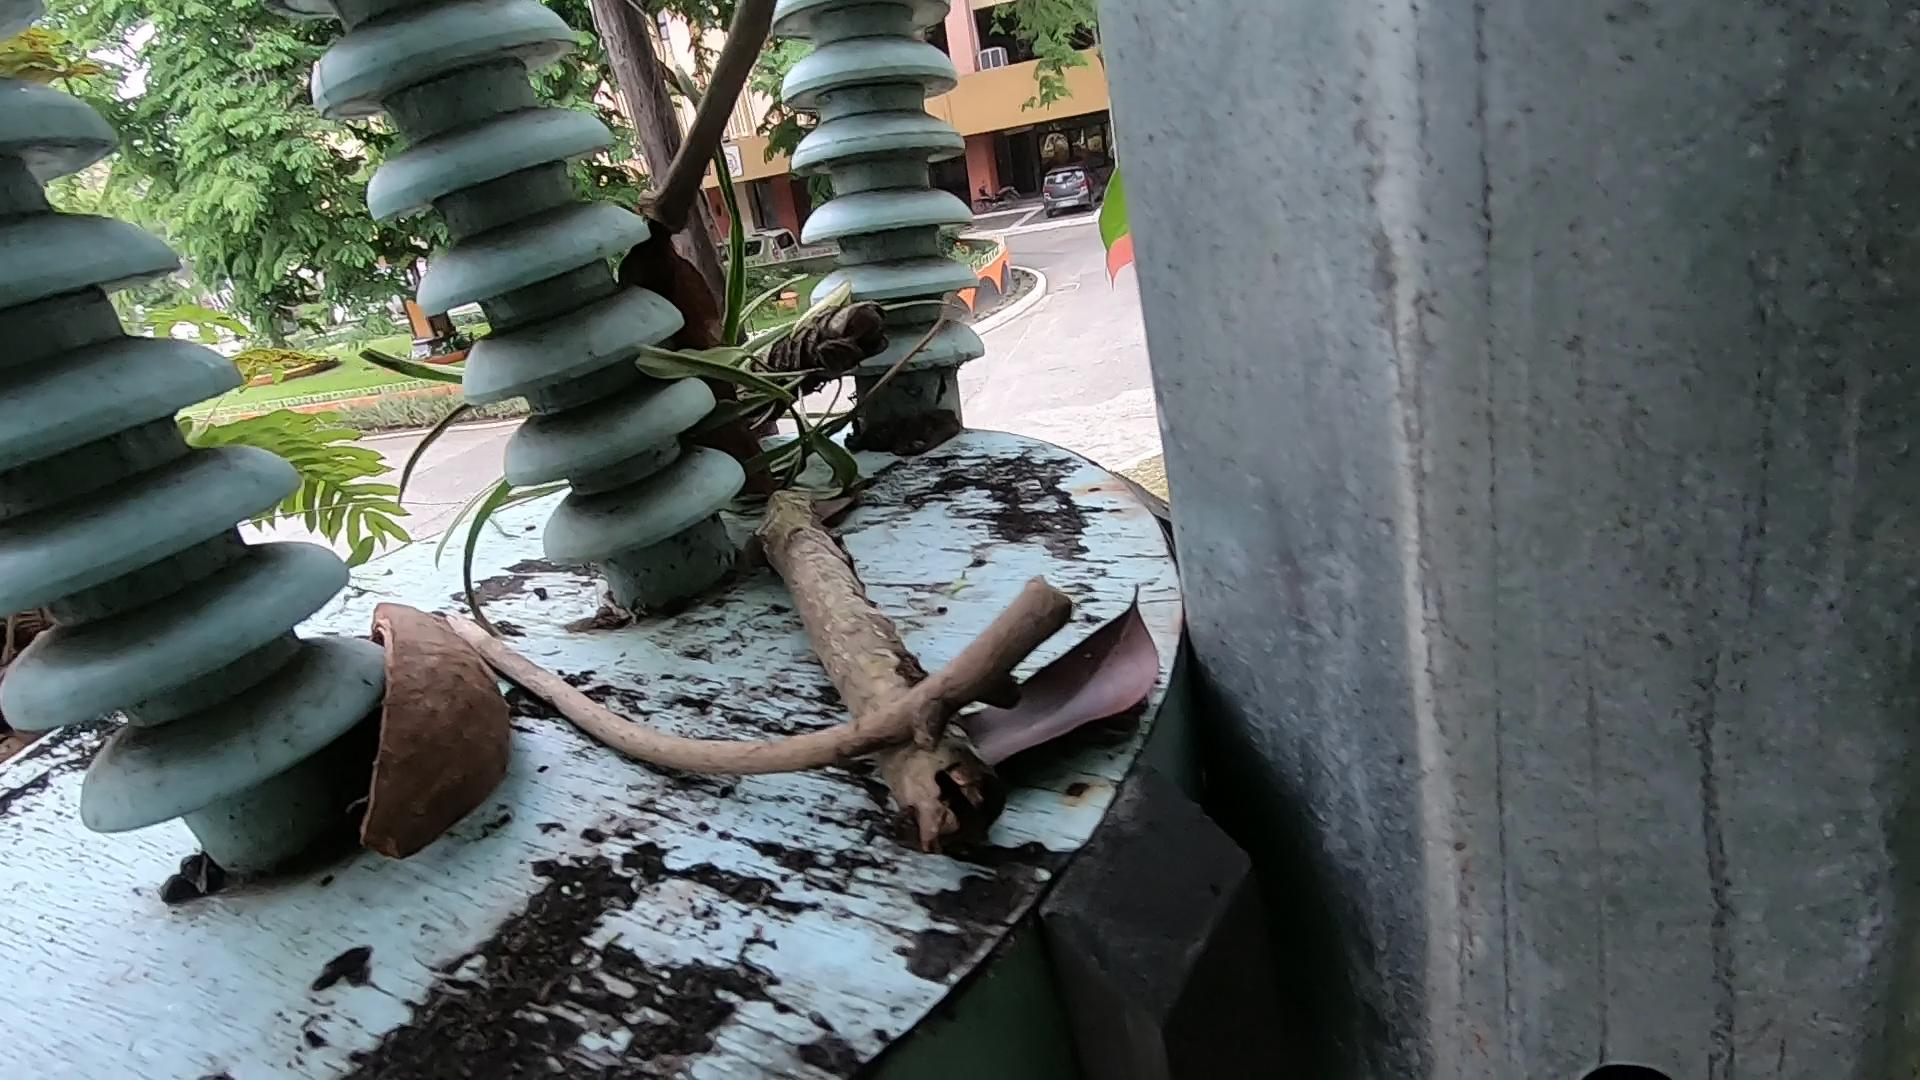branch with leaves: (644, 179, 1079, 872)
leaf: (981, 574, 1164, 785)
mahogany fruit: (299, 502, 568, 894)
tree branch: (440, 611, 1069, 794), (694, 1, 794, 240)
